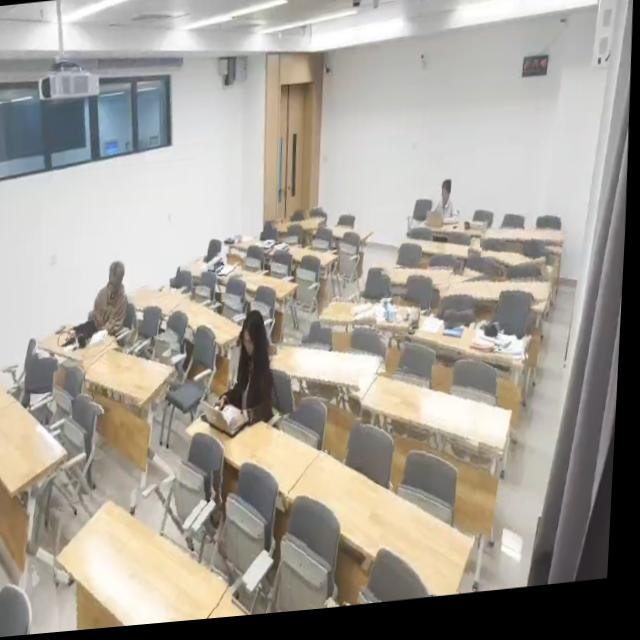Non-empty: (187, 398, 324, 500), (410, 319, 531, 374), (322, 305, 423, 343), (39, 319, 118, 364), (420, 218, 488, 243), (184, 261, 245, 286), (227, 239, 295, 261)
empty: (294, 457, 478, 604), (60, 497, 236, 629), (366, 380, 520, 461), (0, 397, 71, 495), (274, 348, 386, 395), (89, 352, 177, 403), (472, 247, 560, 298), (171, 304, 247, 350), (444, 292, 554, 314), (484, 233, 568, 255), (131, 292, 191, 320), (385, 275, 455, 294), (317, 230, 375, 251), (276, 222, 328, 238), (0, 378, 13, 403)
